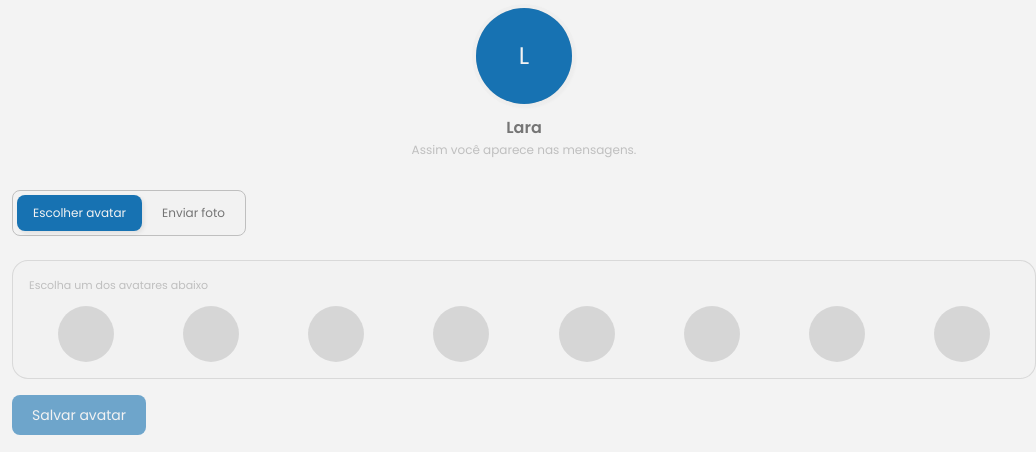
it: ProfileAvatarEditor › alterna para o modo de upload de foto
This screenshot has width=1036, height=452.
Click the button "Enviar foto" at (194, 213), box 146,195 -> 241,231
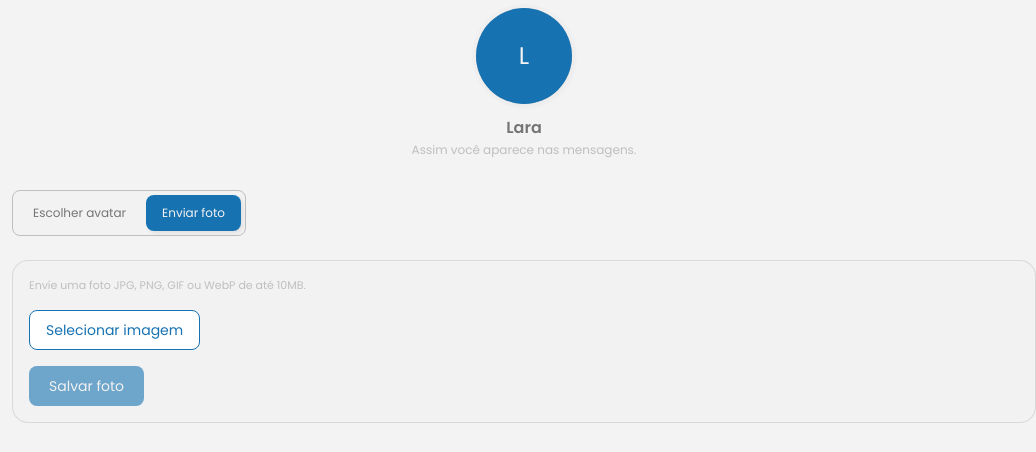
Now the text "Envie uma foto JPG, PNG, GIF ou WebP de até 10MB." is shown, box 29,277 -> 306,294
Now the button "Selecionar imagem" is shown, box 29,310 -> 200,350
